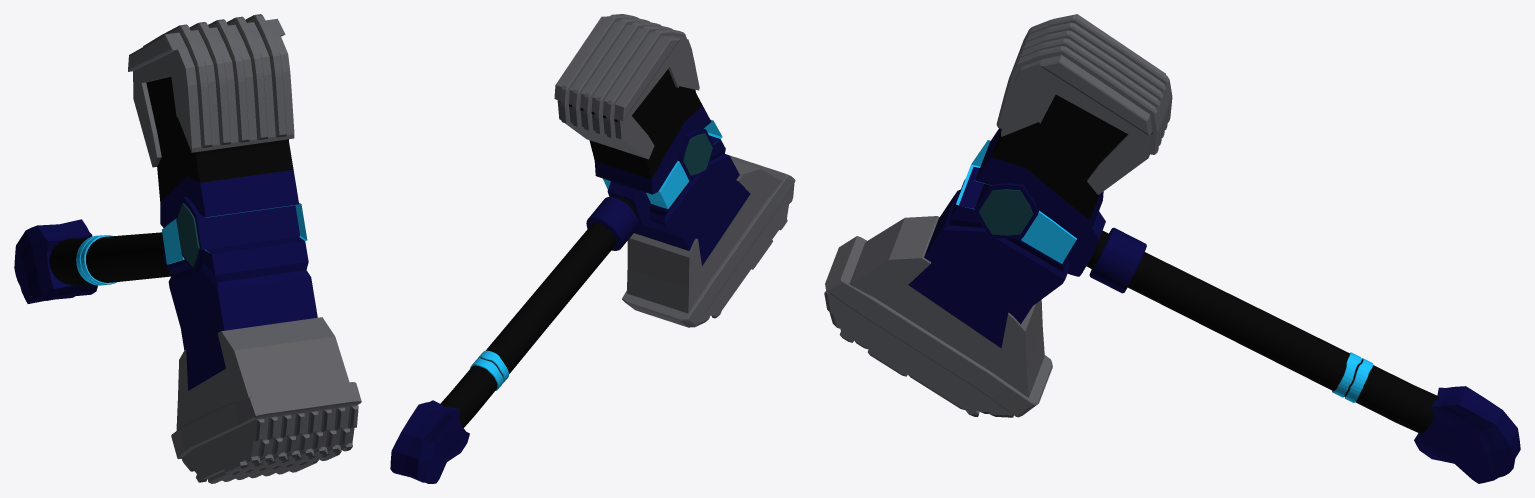
Rendered from w_SCI-FI_Hammer.glb.
The picture shows the model from 3 angles, left to right: view 1: azimuth 30°, elevation 25°; view 2: azimuth 150°, elevation 25°; view 3: azimuth 270°, elevation 25°; orthographic projection. The views are drawn at different scales.
Parts seen in each view (by area): view 1: Cube.053; view 2: Cube.053; view 3: Cube.053.
Boxes of the visible parts, x1,y1,x2,y2 form: Cube.053: (14, 14, 361, 483); Cube.053: (390, 14, 795, 483); Cube.053: (824, 14, 1520, 483).
Bounding box in the file's own units: 1.68 × 4.21 × 6.36.
